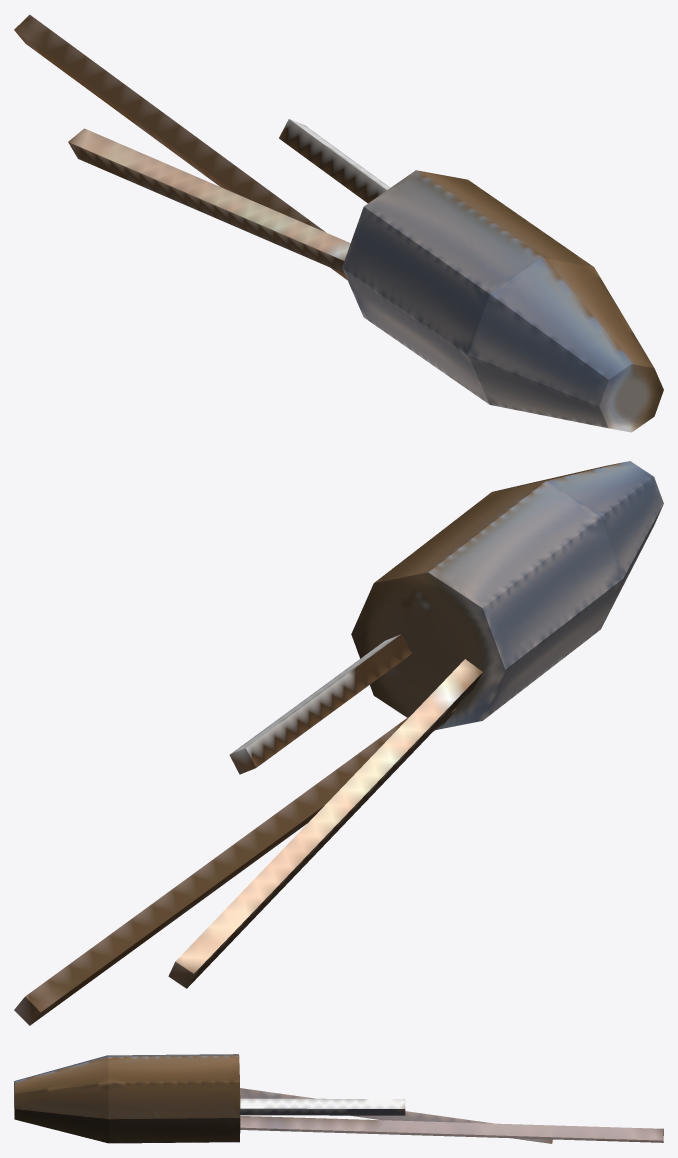
3 renders of one model, top to bottom at view 1: azimuth 30°, elevation 25°; view 2: azimuth 150°, elevation 25°; view 3: azimuth 270°, elevation 25°, orthographic. The views are drawn at different scales.
Visible parts, largest first — view 1: Bala_Cylinder.003, Estela_3_Cube.008, Estela_1_Cube.006, Estela_2_Cube.007; view 2: Bala_Cylinder.003, Estela_3_Cube.008, Estela_1_Cube.006, Estela_2_Cube.007; view 3: Bala_Cylinder.003, Estela_1_Cube.006, Estela_2_Cube.007, Estela_3_Cube.008.
Boxes of the visible parts, left/top/right/bottom form: Bala_Cylinder.003: left=342, top=170, right=663, bottom=432; Estela_3_Cube.008: left=68, top=128, right=350, bottom=273; Estela_1_Cube.006: left=14, top=14, right=347, bottom=279; Estela_2_Cube.007: left=279, top=119, right=390, bottom=203; Bala_Cylinder.003: left=351, top=461, right=663, bottom=729; Estela_3_Cube.008: left=168, top=659, right=482, bottom=988; Estela_1_Cube.006: left=14, top=708, right=456, bottom=1025; Estela_2_Cube.007: left=229, top=634, right=411, bottom=774; Bala_Cylinder.003: left=14, top=1054, right=240, bottom=1143; Estela_1_Cube.006: left=240, top=1116, right=663, bottom=1142; Estela_2_Cube.007: left=240, top=1098, right=405, bottom=1115; Estela_3_Cube.008: left=240, top=1088, right=552, bottom=1143.
Size of what is drawn, in the model's own units: 0.2897 by 0.335 by 1.95.
